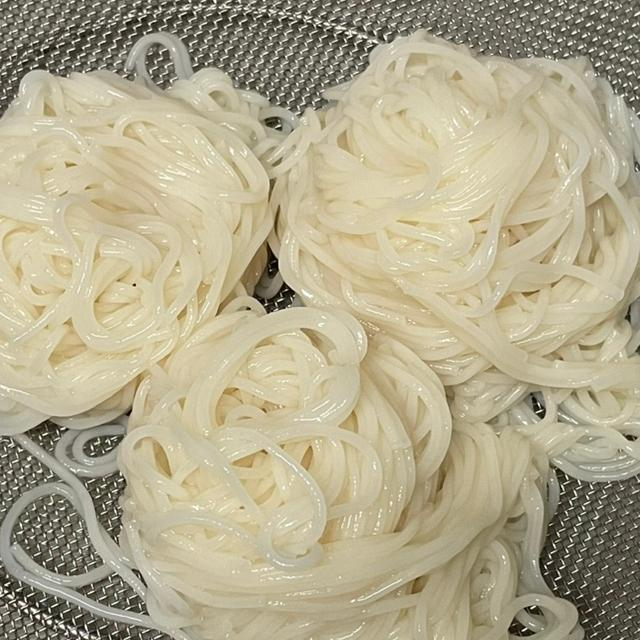noodles: (285, 37, 640, 448), (119, 296, 524, 640), (0, 72, 243, 400)
